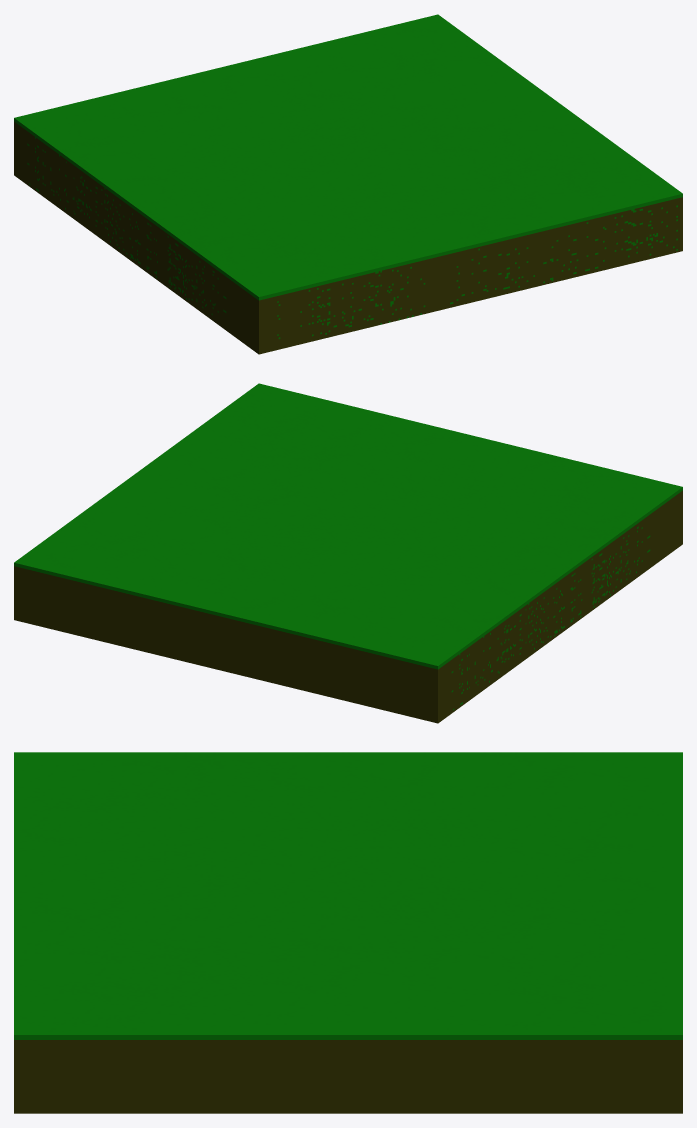
Rendered from Map v0.6-6--1 0.obj.
The picture shows the model from 3 angles, top to bottom: view 1: azimuth 30°, elevation 25°; view 2: azimuth 150°, elevation 25°; view 3: azimuth 270°, elevation 25°; orthographic projection. The views are drawn at different scales.
Parts seen in each view (by area): view 1: -1 0; view 2: -1 0; view 3: -1 0.
Part boxes in pixels (x1=…): -1 0: x1=14, y1=14, x2=682, y2=354; -1 0: x1=14, y1=383, x2=682, y2=723; -1 0: x1=14, y1=752, x2=682, y2=1113.
Bounding box in the file's own units: 25.5 × 3.3 × 25.5.
1 material, 1 textured.
